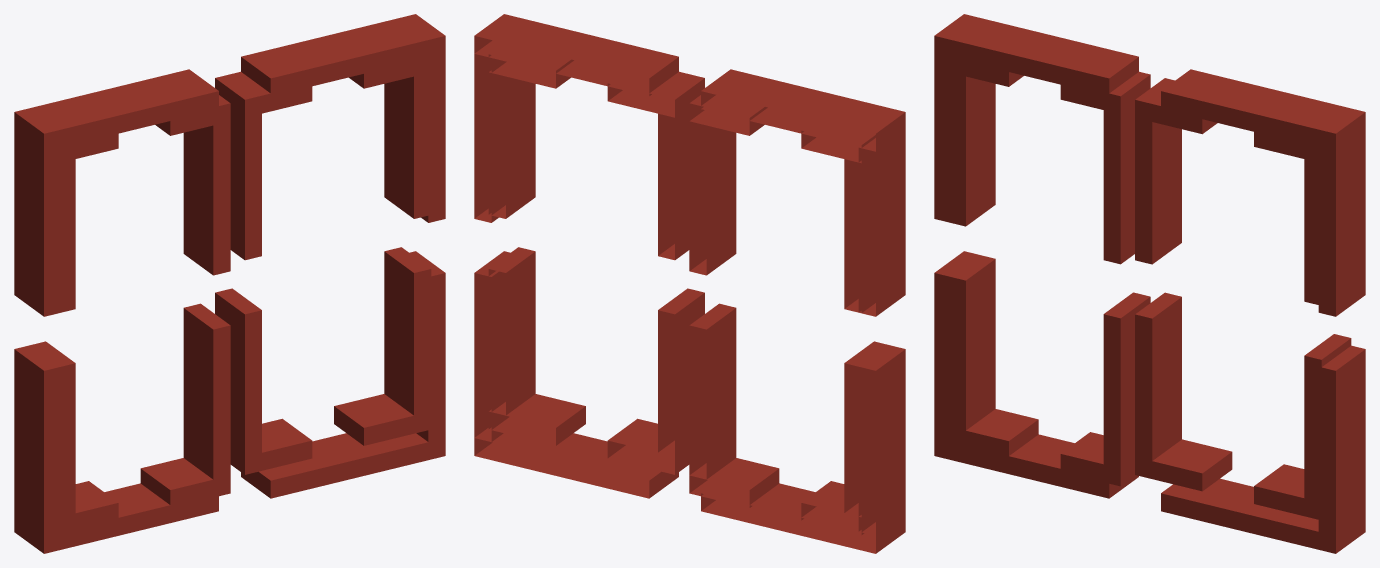
File: construction_0.glb
The picture shows the model from 3 angles, left to right: view 1: azimuth 30°, elevation 25°; view 2: azimuth 150°, elevation 25°; view 3: azimuth 330°, elevation 25°; orthographic projection.
Parts seen in each view (by area): view 1: c0; view 2: c0; view 3: c0.
Part boxes in pixels (bbox=[...]): c0: bbox=[14, 14, 445, 553]; c0: bbox=[474, 14, 905, 553]; c0: bbox=[934, 14, 1365, 553].
Size of the model in its own units: 14 by 14 by 1.8.
